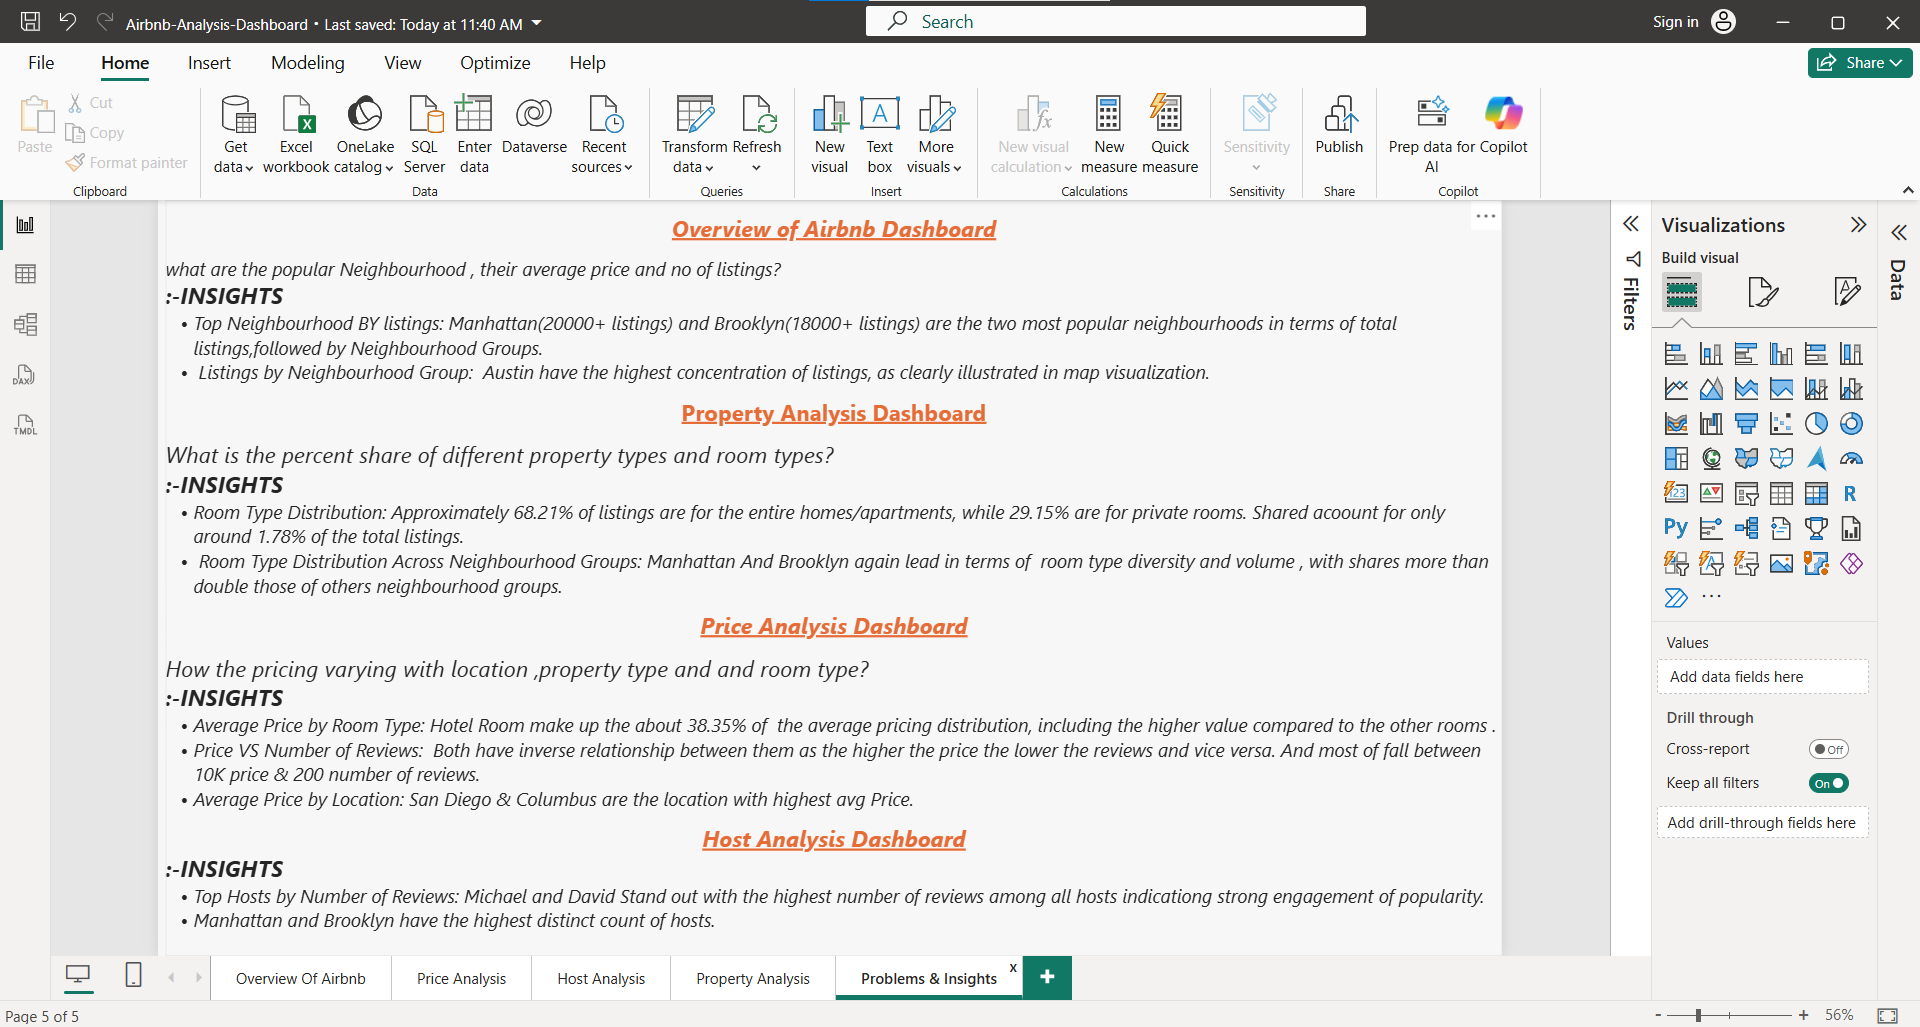

Layout of this report page (visuals, bound fields, positions):
{"tool":"powerbi","page":{"name":"Problems & Insights","canvas":[1920,1080],"ordinal":4},"visuals":[{"type":"textbox","box":[10.3,0,1910.1,1080.6],"z":0}]}

Visuals, with their boxes on the page's 1920x1080 design canvas (x1, y1, x2, y2). These are canvas units, not pixel positions in the 1920x1027 screenshot, which may show the page scaled, cropped or inside an application window:
textbox: BBox(10, 0, 1920, 1081)
